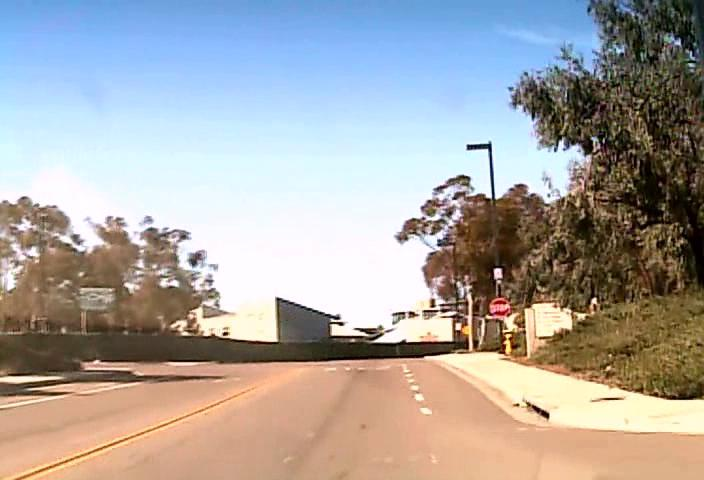stop: (489, 297, 511, 318)
